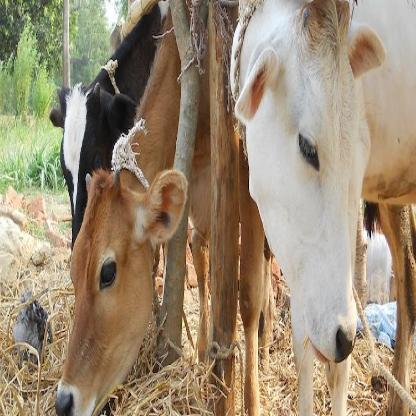cow: (234, 0, 416, 416), (58, 163, 186, 416), (61, 0, 162, 239)
